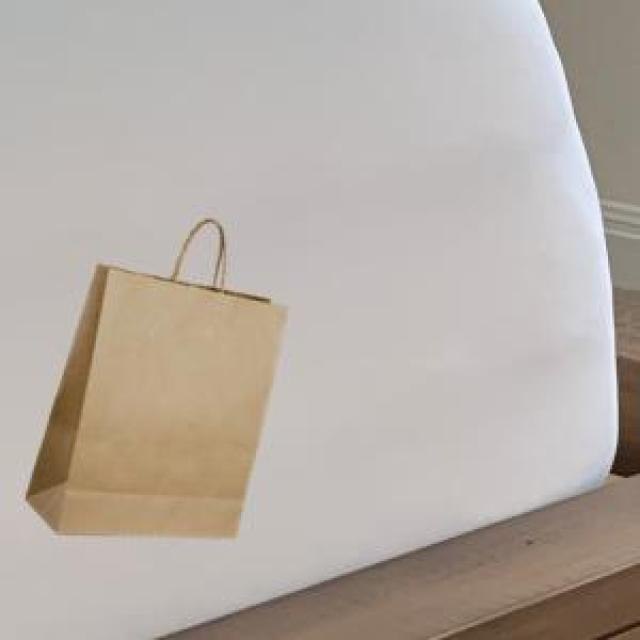paper: (21, 216, 284, 533)
